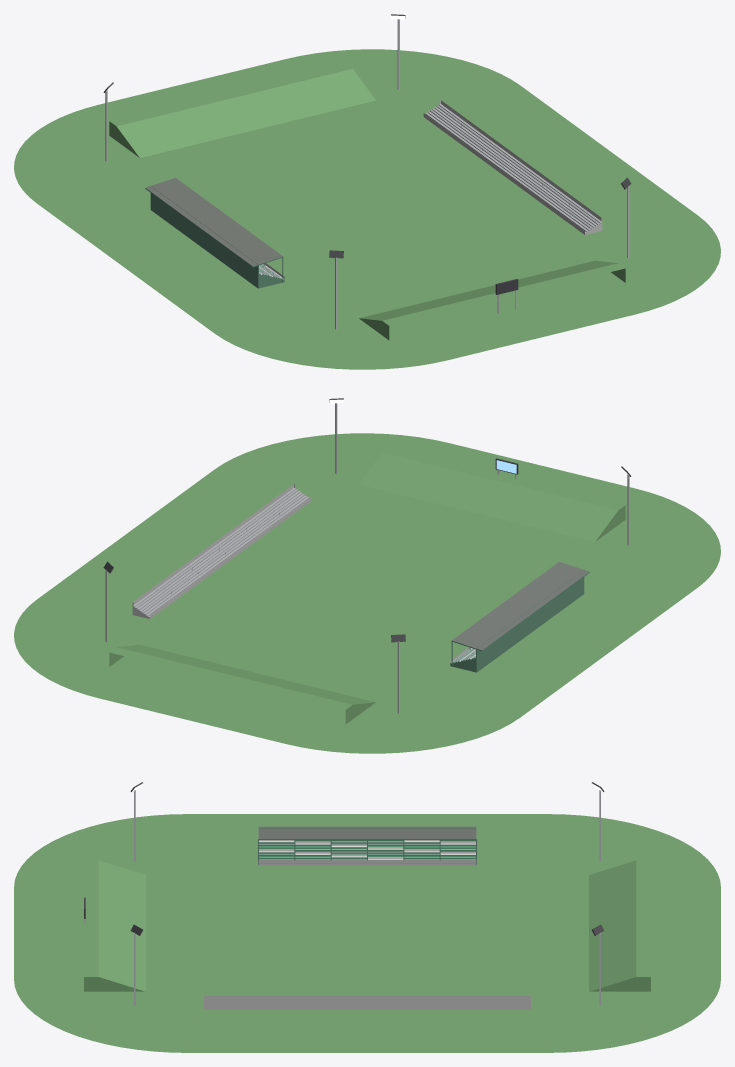
Rendered from riverside_park.glb.
3 renders of one model, top to bottom at view 1: azimuth 30°, elevation 25°; view 2: azimuth 150°, elevation 25°; view 3: azimuth 270°, elevation 25°, orthographic.
Parts seen in each view (by area): view 1: Shell_Ground, Shell_Stands, Shell_Roof; view 2: Shell_Ground, Shell_Stands, Shell_Roof; view 3: Shell_Ground, Shell_Stands, Shell_Roof.
Boxes of the visible parts, x1,y1,x2,y2 form: Shell_Ground: [14, 49, 720, 369]; Shell_Stands: [109, 63, 625, 340]; Shell_Roof: [103, 14, 631, 329]; Shell_Ground: [14, 433, 720, 753]; Shell_Stands: [109, 447, 625, 724]; Shell_Roof: [103, 398, 631, 713]; Shell_Ground: [14, 814, 720, 1052]; Shell_Stands: [84, 828, 650, 1009]; Shell_Roof: [84, 782, 604, 1005].
Size of the model in its own units: 156 by 23.64 by 195.
